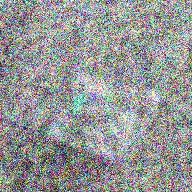러키펜정: (96, 88, 108, 96)
씨엠지세파클러캡슐: (86, 85, 99, 101)
에르도캡슐: (71, 95, 85, 115)
휴티렌정: (103, 90, 115, 105)
